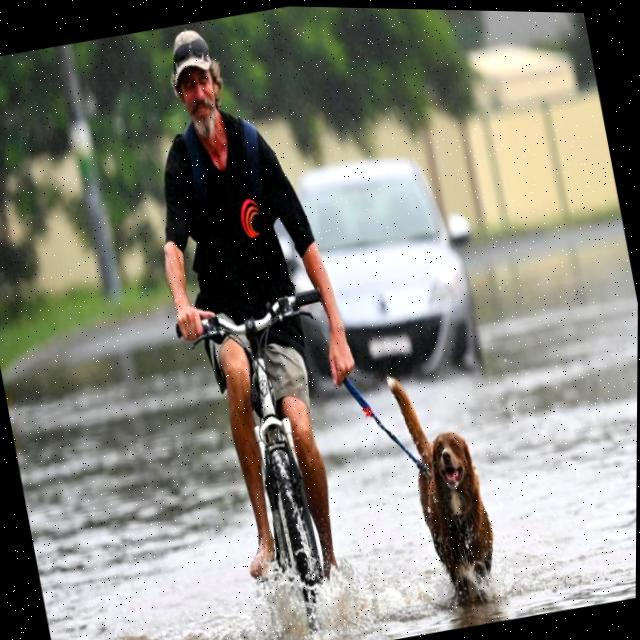civilian: (111, 3, 405, 635)
dog: (371, 365, 521, 622)
